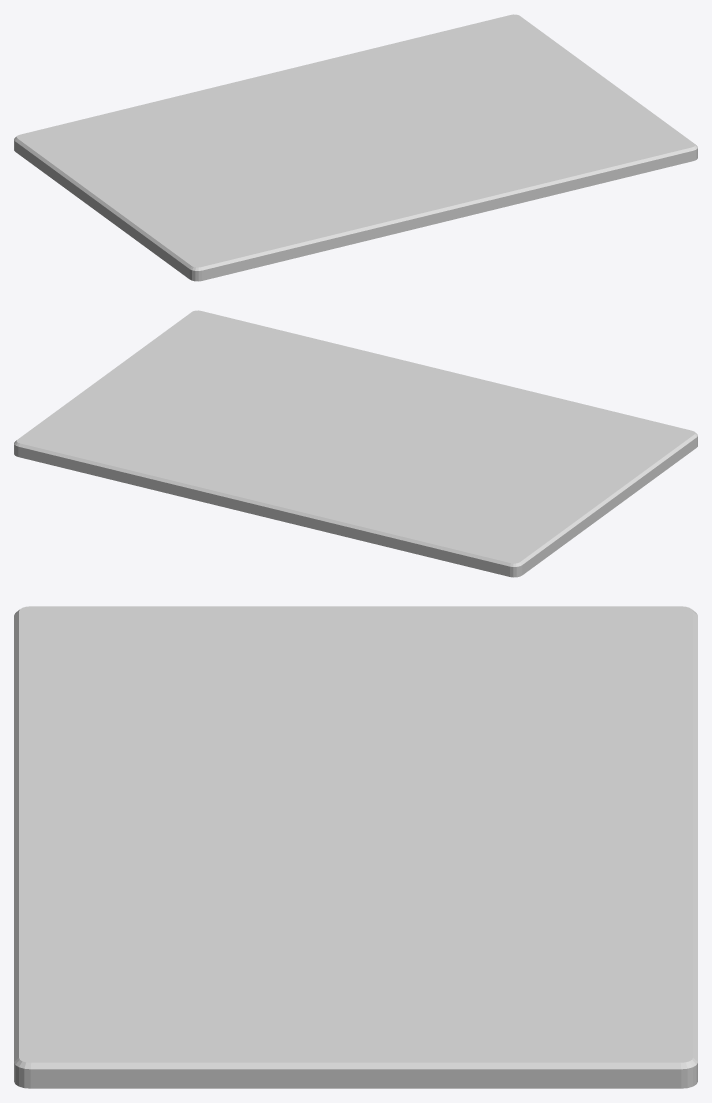
The model's file is panel_empty-medium2.fbx.
The picture shows the model from 3 angles, top to bottom: view 1: azimuth 30°, elevation 25°; view 2: azimuth 150°, elevation 25°; view 3: azimuth 270°, elevation 25°; orthographic projection. The views are drawn at different scales.
Parts seen in each view (by area): view 1: panel_plate.001; view 2: panel_plate.001; view 3: panel_plate.001.
Part boxes in pixels (left/top/right/bottom): panel_plate.001: left=14, top=14, right=697, bottom=281; panel_plate.001: left=14, top=310, right=697, bottom=577; panel_plate.001: left=14, top=606, right=697, bottom=1088.
Bounding box in the file's own units: 56.31 × 1.36 × 35.33.
